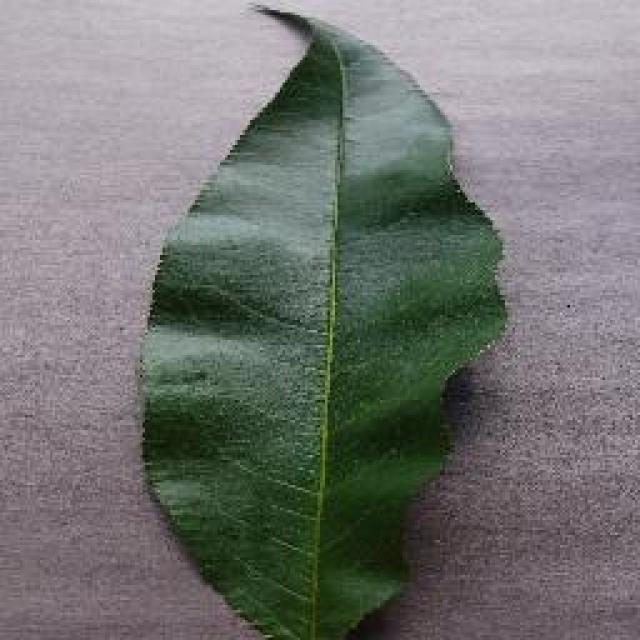Pea_healthy: (153, 51, 485, 594)
